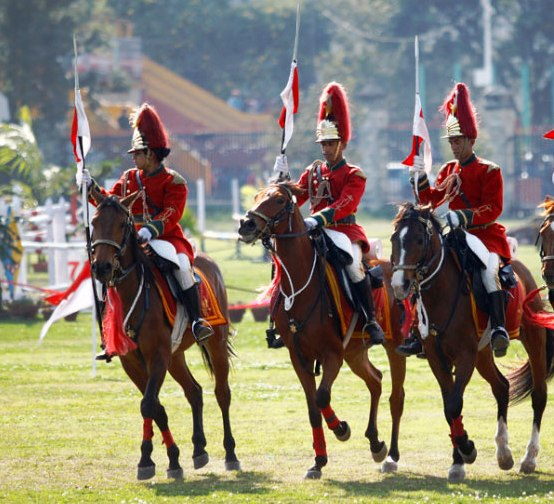human: (75, 97, 222, 350), (388, 83, 512, 372), (265, 79, 392, 361)
